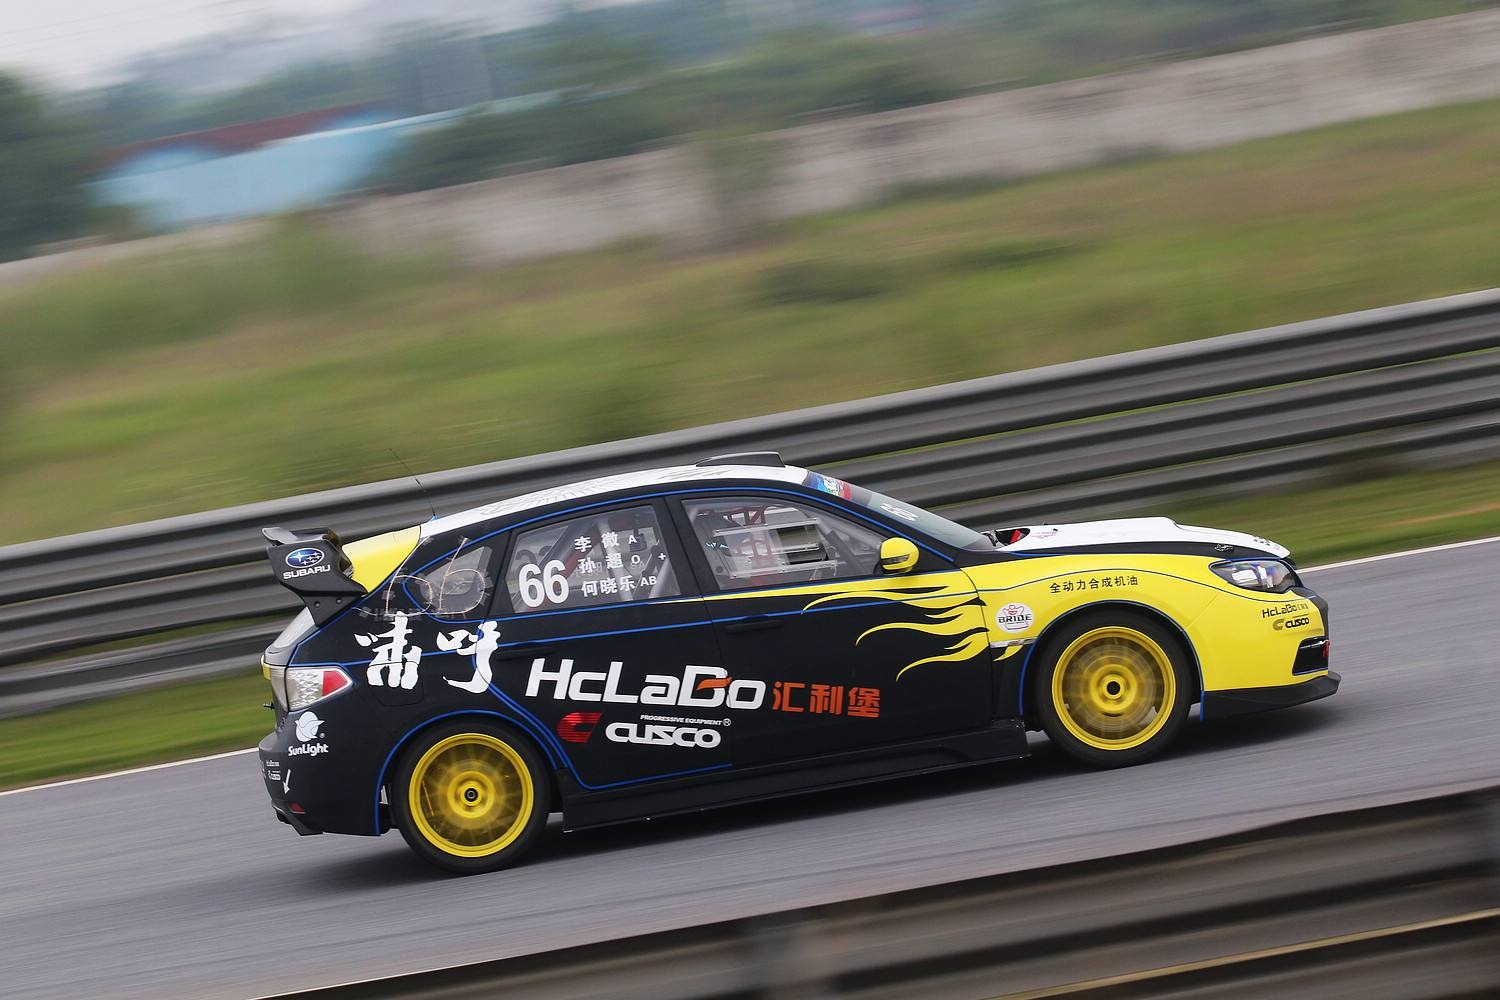racing car: (265, 407, 1371, 847)
